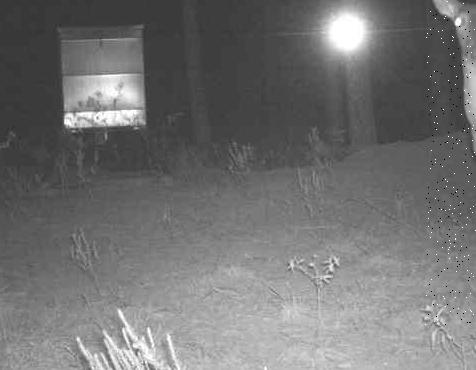Deer: (425, 0, 476, 328)
